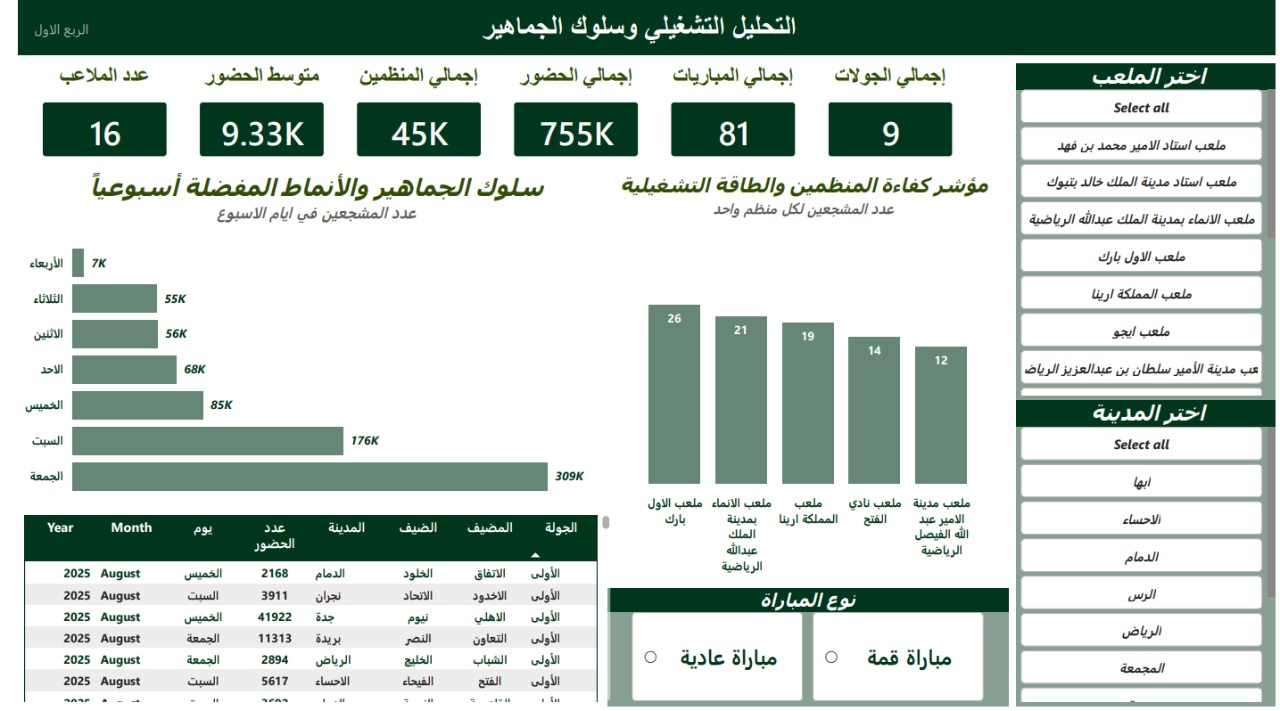

The dashboard page shown, as its layout file describes it:
{"tool":"powerbi","page":{"name":"تفاصيل الاداء","canvas":[1280,720],"ordinal":1},"visuals":[{"type":"shape","box":[0,0,1280,56],"z":0},{"type":"shape","box":[8,0,72,56],"z":1000},{"type":"cardVisual","title":"إجمالي الحضور","fields":{"Data":["Sum(League_Data.Attendance)"]},"box":[488,64,160,112],"z":2000},{"type":"cardVisual","title":"إجمالي الجولات","fields":{"Data":["Count(League_Data.Round)"]},"box":[808,64,160,112],"z":3000},{"type":"cardVisual","title":"متوسط الحضور","fields":{"Data":["Avg(League_Data.Attendance)"]},"box":[168,64,160,112],"z":4000},{"type":"cardVisual","title":"عدد الملاعب","fields":{"Data":["Count(League_Data.Stadium)"]},"box":[8,64,160,112],"z":5000},{"type":"cardVisual","title":"إجمالي المنظمين","fields":{"Data":["Sum(League_Data.Organizers_Count)"]},"box":[328,64,160,112],"z":6000},{"type":"cardVisual","title":"إجمالي المباريات","fields":{"Data":["CountNonNull(League_Data.Match_ID)"]},"box":[648,64,160,112],"z":7000},{"type":"advancedSlicerVisual","title":"نوع المباراة","fields":{"Values":["League_Data.Match_Type"]},"box":[600,600,408,120],"z":8000},{"type":"clusteredColumnChart","title":"مؤشر كفاءة المنظمين والطاقة التشغيلية","fields":{"Category":["League_Data.Stadium"],"Y":["League_Data.Fans Per Organizer"]},"box":[600,176,400,416],"z":9000},{"type":"clusteredBarChart","title":"سلوك الجماهير والأنماط المفضلة أسبوعياً","fields":{"Category":["League_Data.Day Name"],"Y":["Sum(League_Data.Attendance)"]},"box":[0,176,608,344],"z":10000},{"type":"tableEx","fields":{"Values":["League_Data.Date.Variation.Date Hierarchy.Year","League_Data.Date.Variation.Date Hierarchy.Month","League_Data.Day Name","Sum(League_Data.Attendance)","League_Data.City","League_Data.Away_Team","League_Data.Home_Team","League_Data.Round"]},"box":[0,520,608,200],"z":11000},{"type":"advancedSlicerVisual","title":"اختر الملعب","fields":{"Values":["League_Data.Stadium"]},"box":[1016,64,264,344],"z":12000},{"type":"advancedSlicerVisual","title":"اختر المدينة","fields":{"Values":["League_Data.City"]},"box":[1016,408,264,312],"z":13000}]}

Visuals, with their boxes in screenshot pixels (x1, y1, x2, y2), scaled from the page's 1280x720 canvas onto the 1280x711 screenshot:
shape: <box>0,0,1279,55</box>
shape: <box>8,0,80,55</box>
"إجمالي الحضور" cardVisual: <box>488,63,648,174</box>
"إجمالي الجولات" cardVisual: <box>808,63,968,174</box>
"متوسط الحضور" cardVisual: <box>168,63,328,174</box>
"عدد الملاعب" cardVisual: <box>8,63,168,174</box>
"إجمالي المنظمين" cardVisual: <box>328,63,488,174</box>
"إجمالي المباريات" cardVisual: <box>648,63,808,174</box>
"نوع المباراة" advancedSlicerVisual: <box>600,592,1008,710</box>
"مؤشر كفاءة المنظمين والطاقة التشغيلية" clusteredColumnChart: <box>600,174,1000,585</box>
"سلوك الجماهير والأنماط المفضلة أسبوعياً" clusteredBarChart: <box>0,174,608,514</box>
tableEx - League_Data.Date.Variation.Date Hierarchy.Year x League_Data.Date.Variation.Date Hierarchy.Month: <box>0,514,608,710</box>
"اختر الملعب" advancedSlicerVisual: <box>1016,63,1279,403</box>
"اختر المدينة" advancedSlicerVisual: <box>1016,403,1279,710</box>
